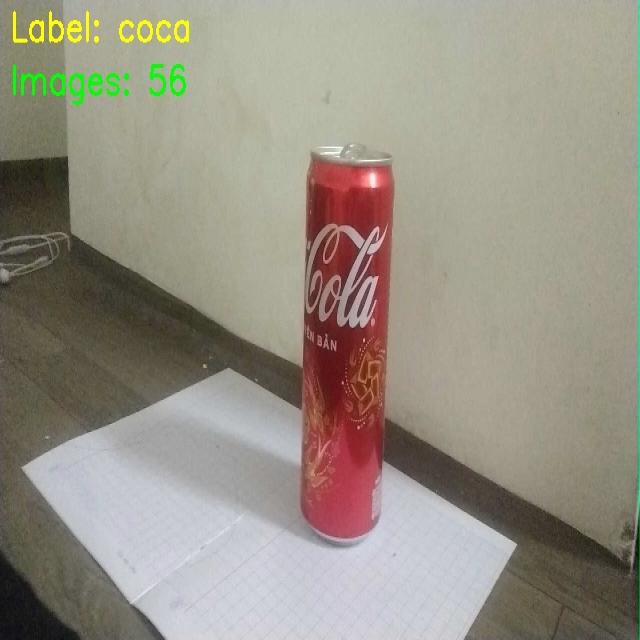Coca: (285, 120, 437, 603)
